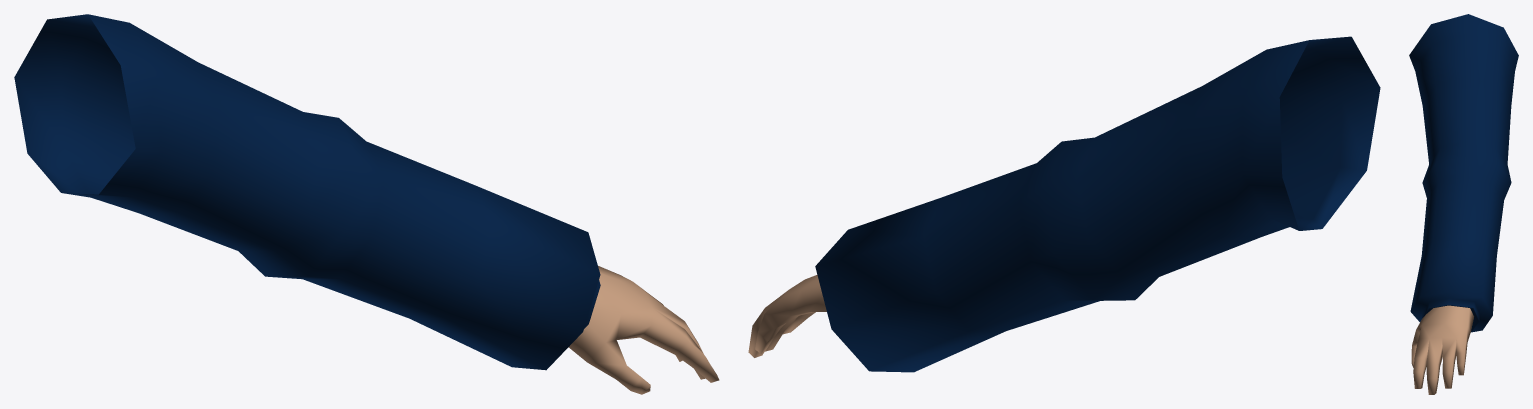
File: hand2.obj
3 views of the same model, side by side, from view 1: azimuth 30°, elevation 25°; view 2: azimuth 150°, elevation 25°; view 3: azimuth 270°, elevation 25° (orthographic). The views are drawn at different scales.
Parts seen in each view (by area): view 1: polySurface6 _Mesh1, _Mesh1 polySurface7; view 2: polySurface6 _Mesh1, _Mesh1 polySurface7; view 3: polySurface6 _Mesh1, _Mesh1 polySurface7.
Boxes of the visible parts, <box> form: polySurface6 _Mesh1: <box>14,14,600,370</box>; _Mesh1 polySurface7: <box>568,266,719,394</box>; polySurface6 _Mesh1: <box>815,36,1380,372</box>; _Mesh1 polySurface7: <box>748,275,826,357</box>; polySurface6 _Mesh1: <box>1409,14,1518,332</box>; _Mesh1 polySurface7: <box>1411,305,1473,394</box>.
Bounding box in the file's own units: 35.18 × 26.26 × 10.94.
